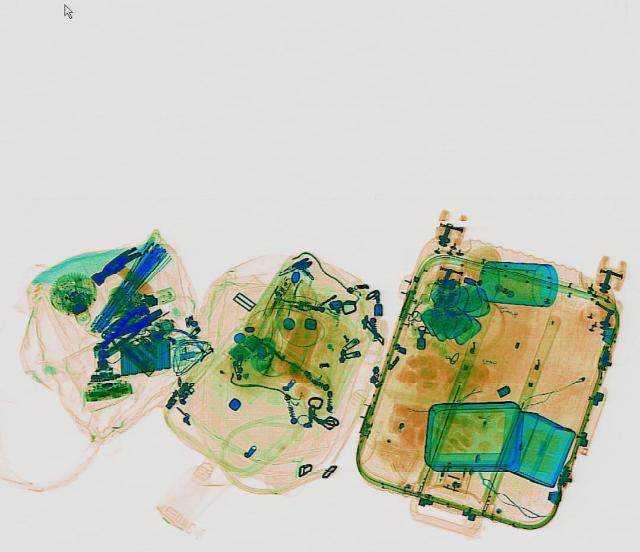Pliers: (87, 295, 165, 355)
